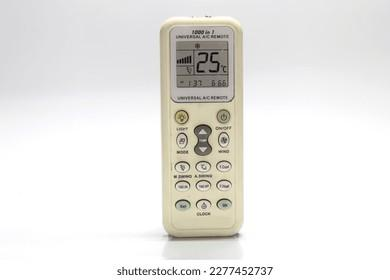Remote control: (159, 17, 246, 239)
